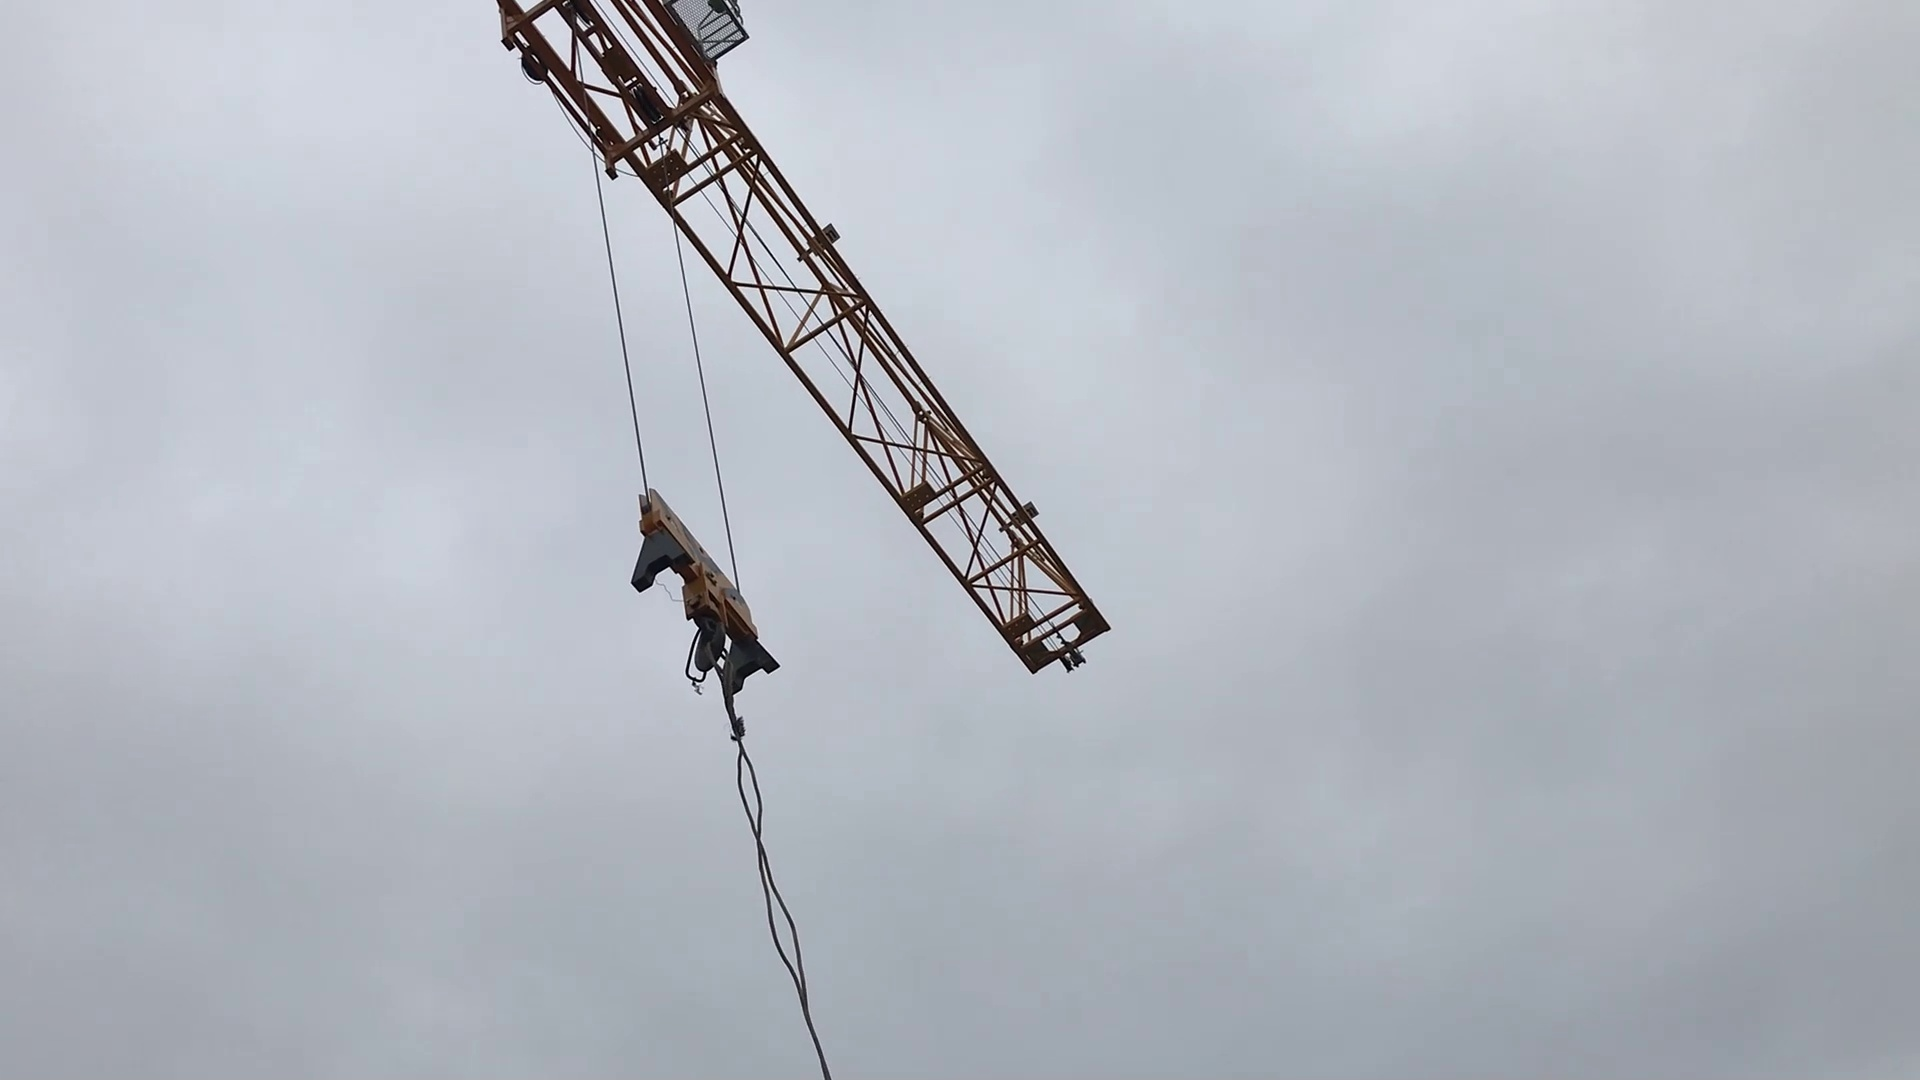hook: (607, 476, 808, 715)
